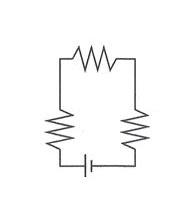resistor: (116, 96, 155, 162), (37, 101, 78, 160), (63, 38, 127, 74)
